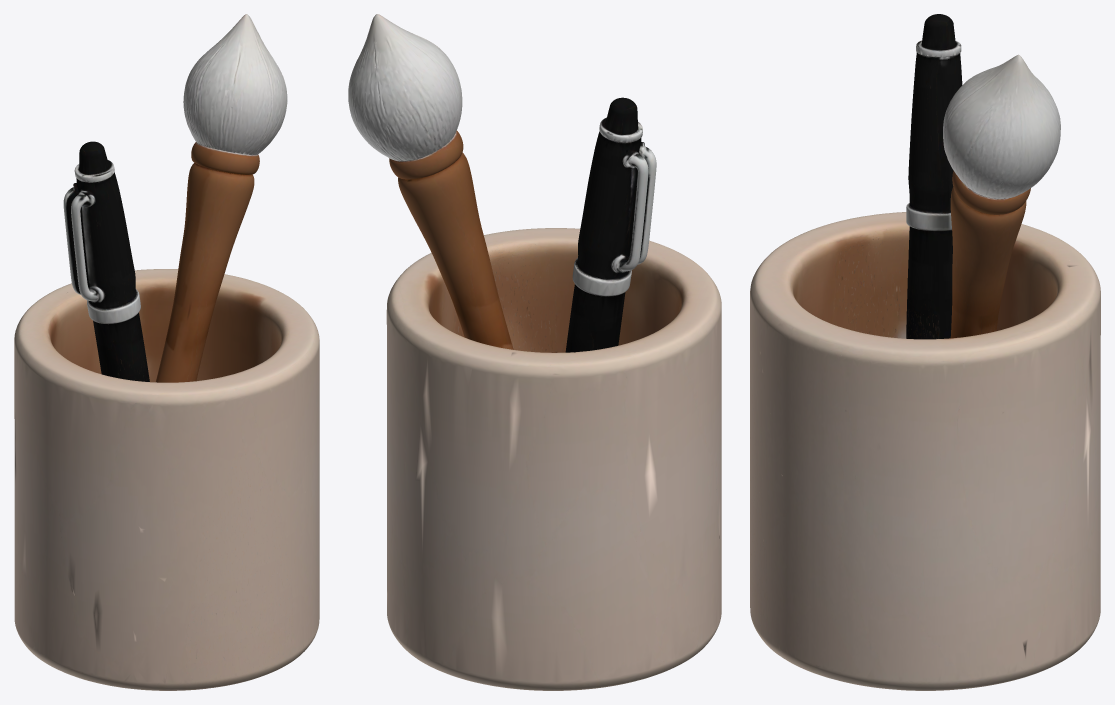
The model's file is penholder.glb.
3 renders of one model, left to right at view 1: azimuth 30°, elevation 25°; view 2: azimuth 150°, elevation 25°; view 3: azimuth 270°, elevation 25°, orthographic. The views are drawn at different scales.
Parts seen in each view (by area): view 1: node_0; view 2: node_0; view 3: node_0.
Boxes of the visible parts, <box> form: node_0: <box>14,14,319,690</box>; node_0: <box>348,14,721,690</box>; node_0: <box>750,14,1100,690</box>.
Bounding box in the file's own units: 0.5613 × 1.07 × 0.5369.
1 material, 1 textured.
